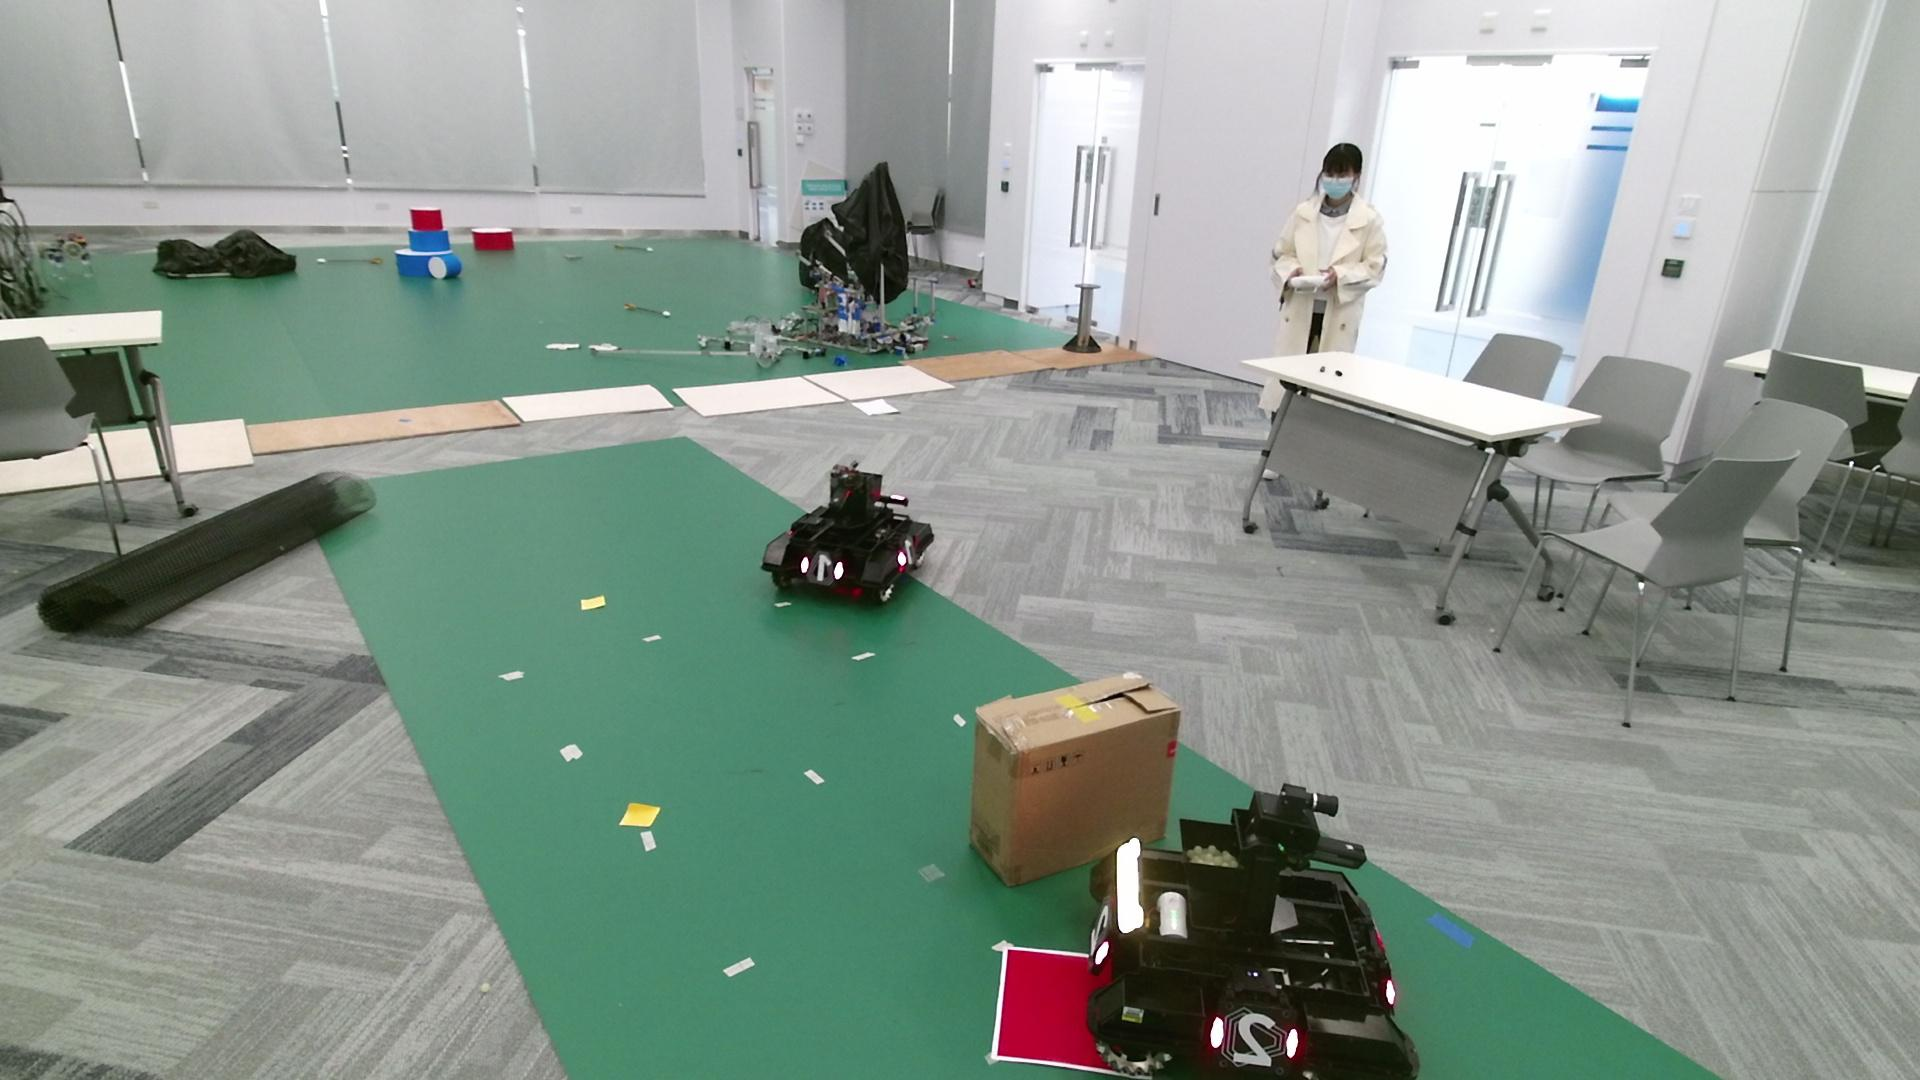robot: (1087, 781, 1420, 1080), (761, 463, 935, 603)
